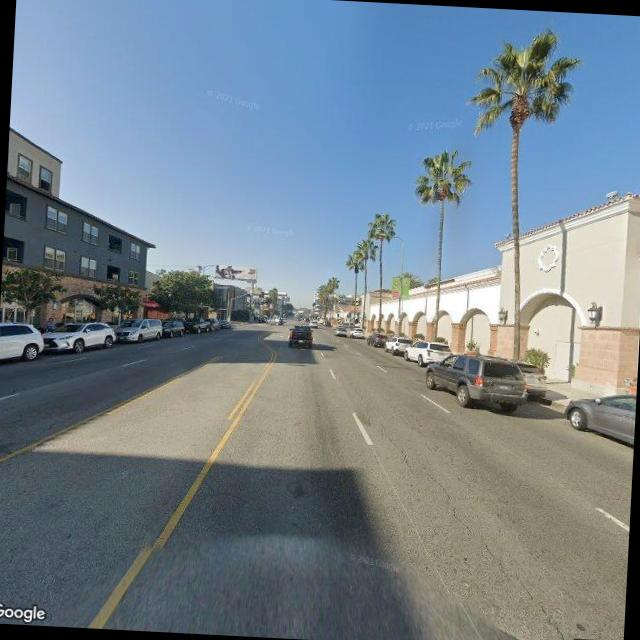pothole: (380, 450, 579, 640)
